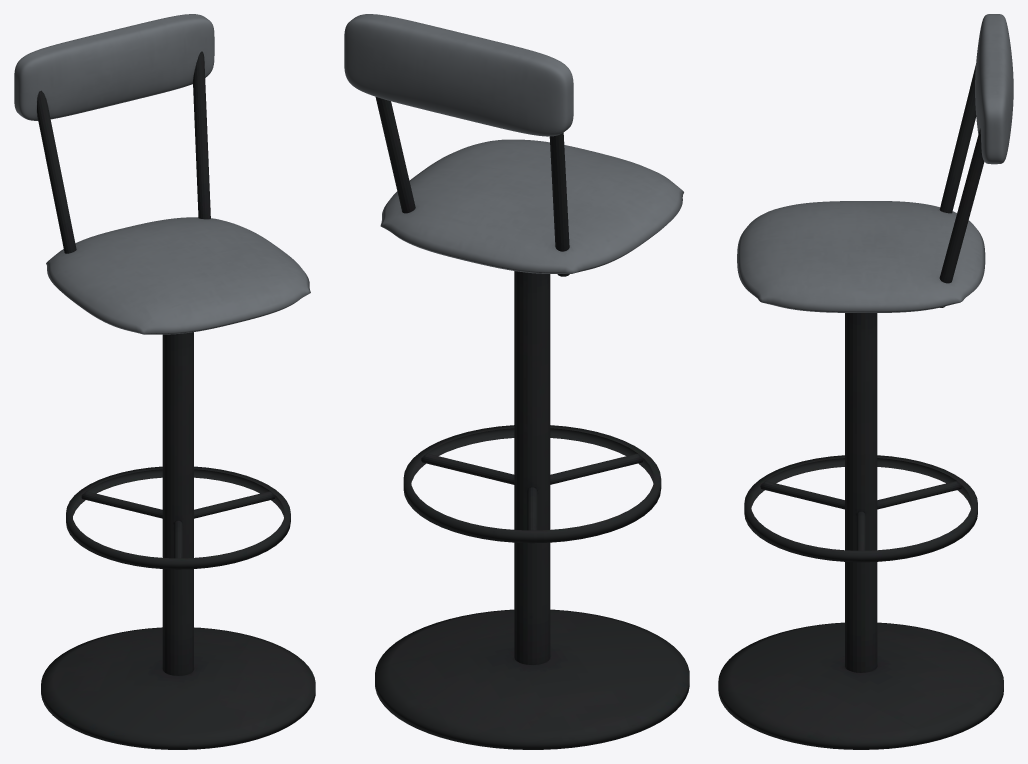
Rendered from metal-back-grey.glb.
The picture shows the model from 3 angles, left to right: view 1: azimuth 30°, elevation 25°; view 2: azimuth 150°, elevation 25°; view 3: azimuth 270°, elevation 25°; orthographic projection. The views are drawn at different scales.
Parts seen in each view (by area): view 1: metal_frame, fabric_primary; view 2: metal_frame, fabric_primary; view 3: metal_frame, fabric_primary.
Part boxes in pixels (<box>): metal_frame: <box>37,51,315,749</box>; fabric_primary: <box>14,14,310,334</box>; metal_frame: <box>375,97,689,749</box>; fabric_primary: <box>344,14,683,273</box>; metal_frame: <box>718,65,1003,749</box>; fabric_primary: <box>737,14,1013,312</box>.
Bounding box in the file's own units: 0.44 × 1.08 × 0.4548.
Materials: 2 (2 with a texture image).
